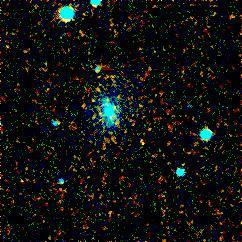star: (123, 124, 153, 154)
